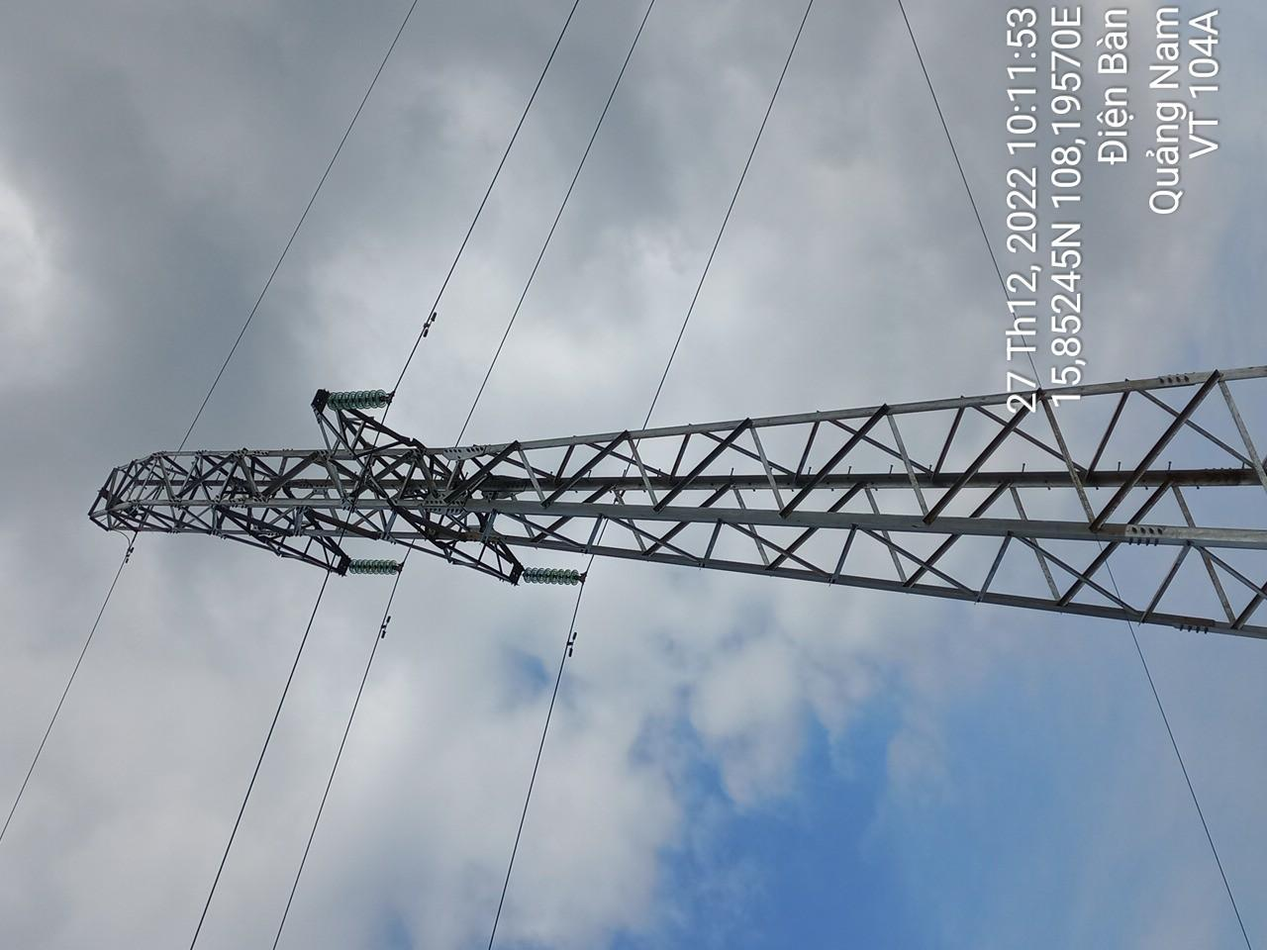tower: (424, 65, 773, 950)
